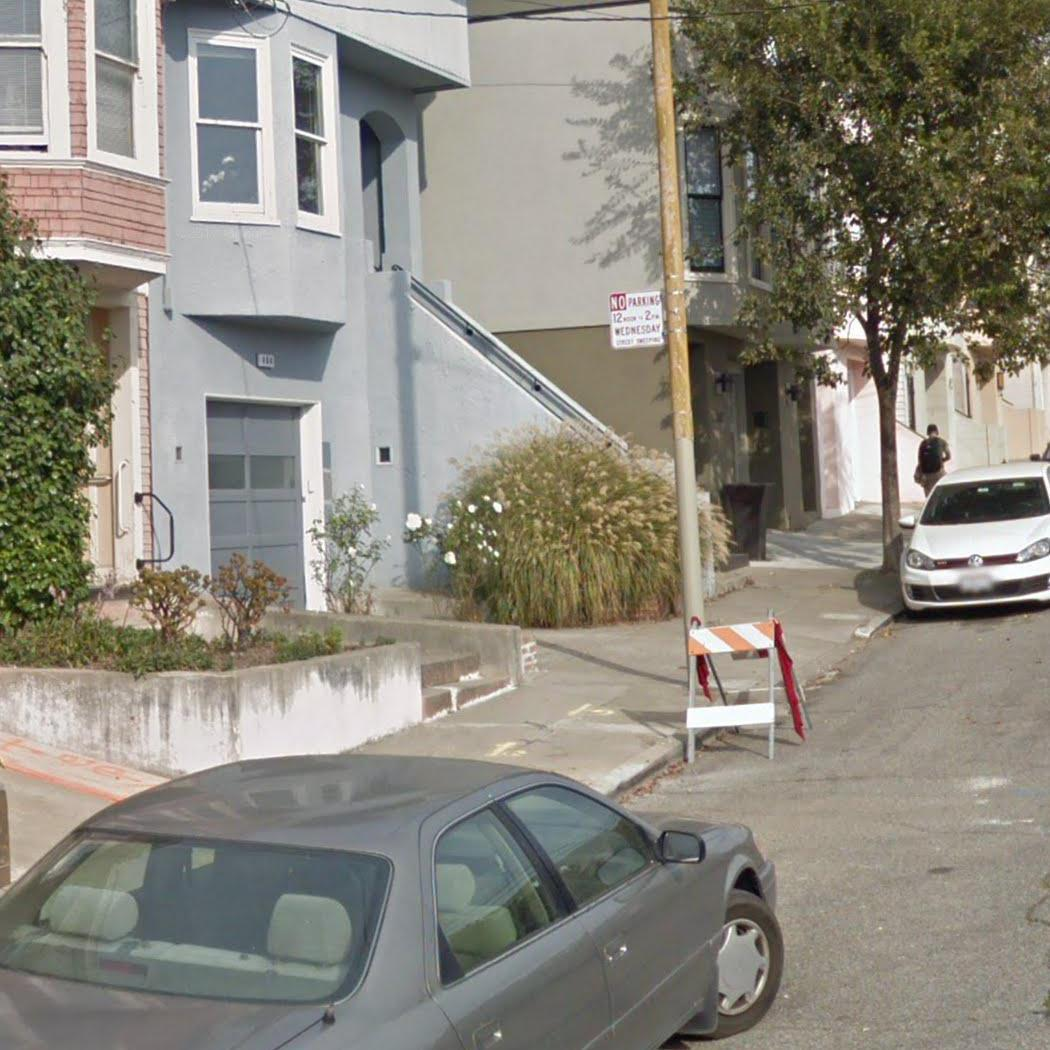No Parking: (607, 289, 666, 351)
